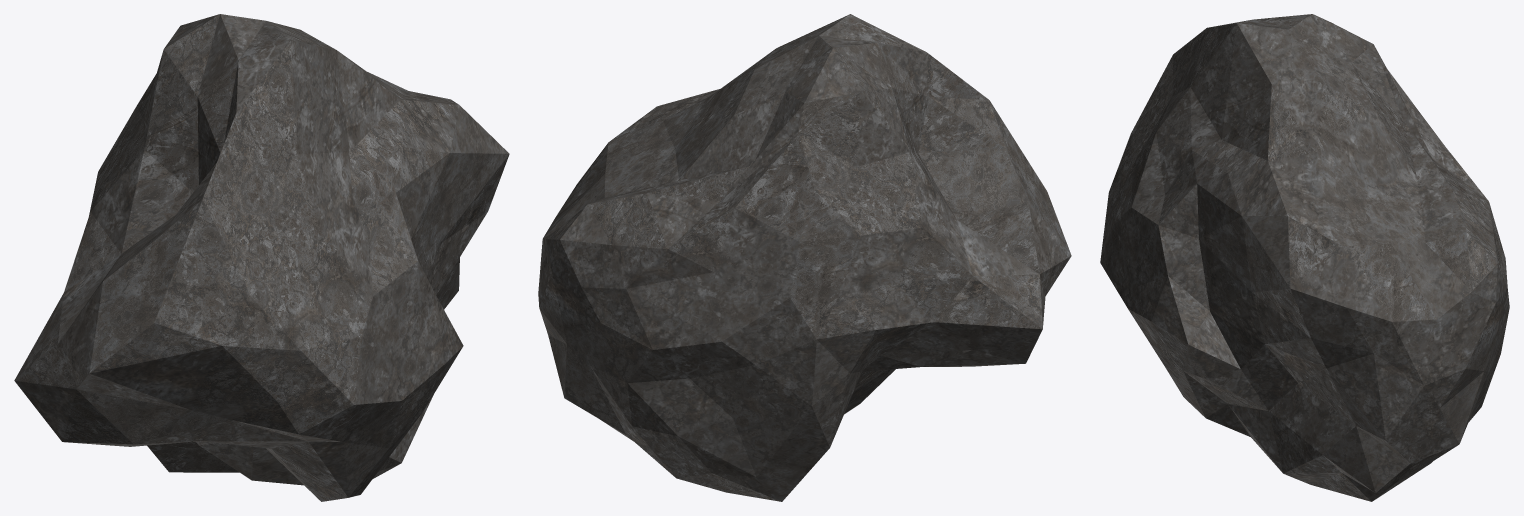
File: SNSS_Lmain_Asteroid001.fbx
3 views of the same model, side by side, from view 1: azimuth 30°, elevation 25°; view 2: azimuth 150°, elevation 25°; view 3: azimuth 270°, elevation 25° (orthographic). The views are drawn at different scales.
Visible parts, largest first — view 1: Asteriod_01; view 2: Asteriod_01; view 3: Asteriod_01.
Boxes of the visible parts, x1=… form: Asteriod_01: x1=14, y1=14, x2=509, y2=501; Asteriod_01: x1=538, y1=14, x2=1071, y2=501; Asteriod_01: x1=1100, y1=14, x2=1509, y2=501.
Size of the model in its own units: 775 by 739 by 649.
